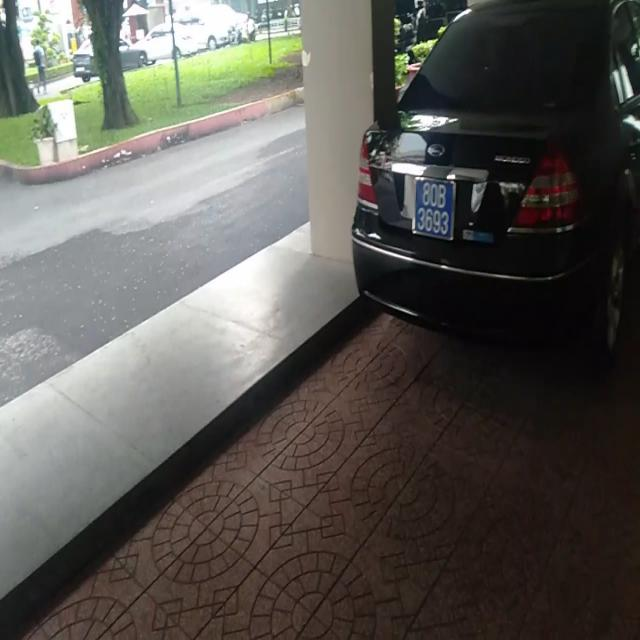bien_xanh: (409, 182, 460, 242)
